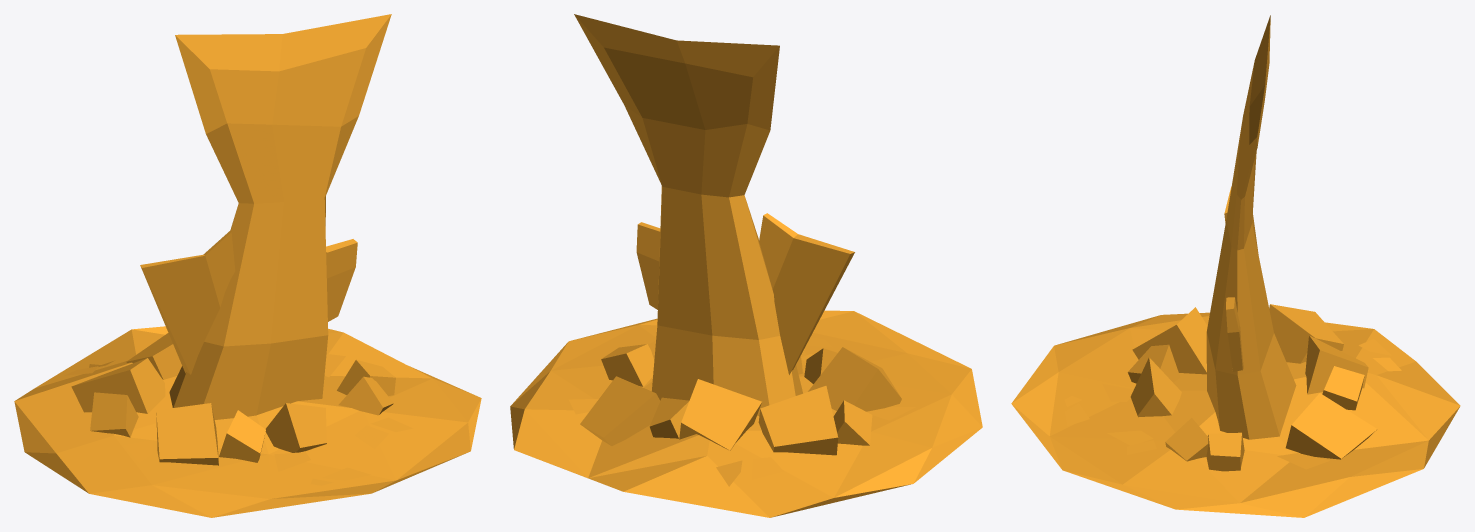
File: SM_Soup_Fish_B.fbx
3 renders of one model, left to right at view 1: azimuth 30°, elevation 25°; view 2: azimuth 150°, elevation 25°; view 3: azimuth 270°, elevation 25°, orthographic. The views are drawn at different scales.
Visible parts, largest first — view 1: soup-fish-b; view 2: soup-fish-b; view 3: soup-fish-b.
Boxes of the visible parts, x1=… form: soup-fish-b: x1=14, y1=14, x2=481, y2=517; soup-fish-b: x1=510, y1=14, x2=982, y2=517; soup-fish-b: x1=1011, y1=15, x2=1460, y2=517.
Size of the model in its own units: 0.2405 by 0.2386 by 0.2434.
